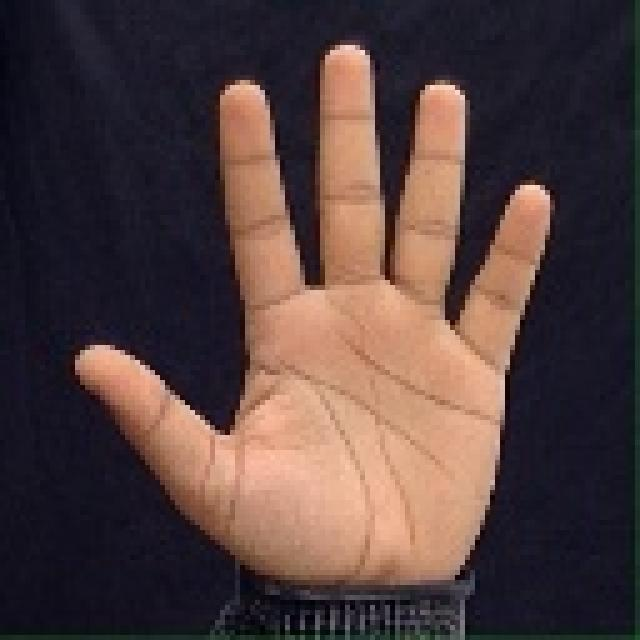Yes: (49, 28, 583, 608)
